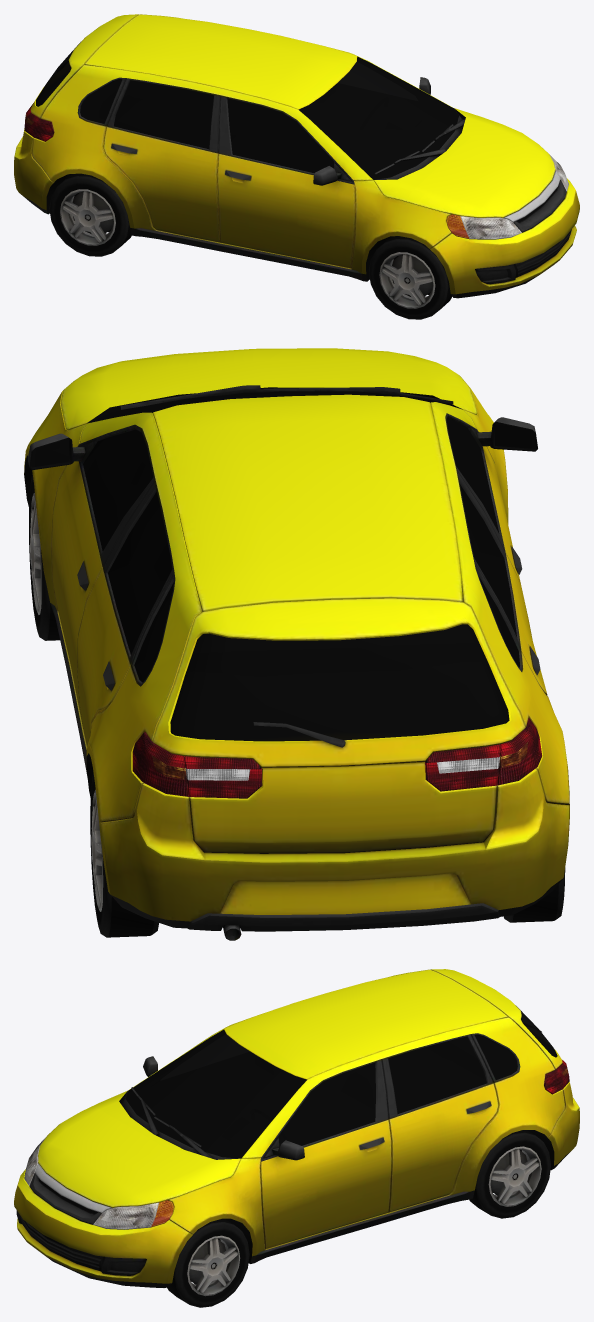
File: hatchback.glb
3 renders of one model, top to bottom at view 1: azimuth 30°, elevation 25°; view 2: azimuth 150°, elevation 25°; view 3: azimuth 270°, elevation 25°, orthographic. The views are drawn at different scales.
Visible parts, largest first — view 1: Hatchback Body, Wheel_B002, Wheel_B003; view 2: Hatchback Body, Wheel_B001, Wheel_B, Wheel_B003; view 3: Hatchback Body, Wheel_B, Wheel_B001.
Part boxes in pixels (left/top/right/bottom): Hatchback Body: left=14, top=14, right=579, bottom=298; Wheel_B002: left=369, top=236, right=452, bottom=319; Wheel_B003: left=49, top=173, right=131, bottom=256; Hatchback Body: left=24, top=348, right=569, bottom=940; Wheel_B001: left=90, top=772, right=158, bottom=937; Wheel_B: left=29, top=473, right=59, bottom=640; Wheel_B003: left=503, top=868, right=565, bottom=922; Hatchback Body: left=14, top=969, right=579, bottom=1287; Wheel_B: left=167, top=1218, right=249, bottom=1307; Wheel_B001: left=469, top=1130, right=550, bottom=1218.
Bounding box in the file's own units: 3.11 × 1.35 × 3.7.
4 materials, 3 textured.
